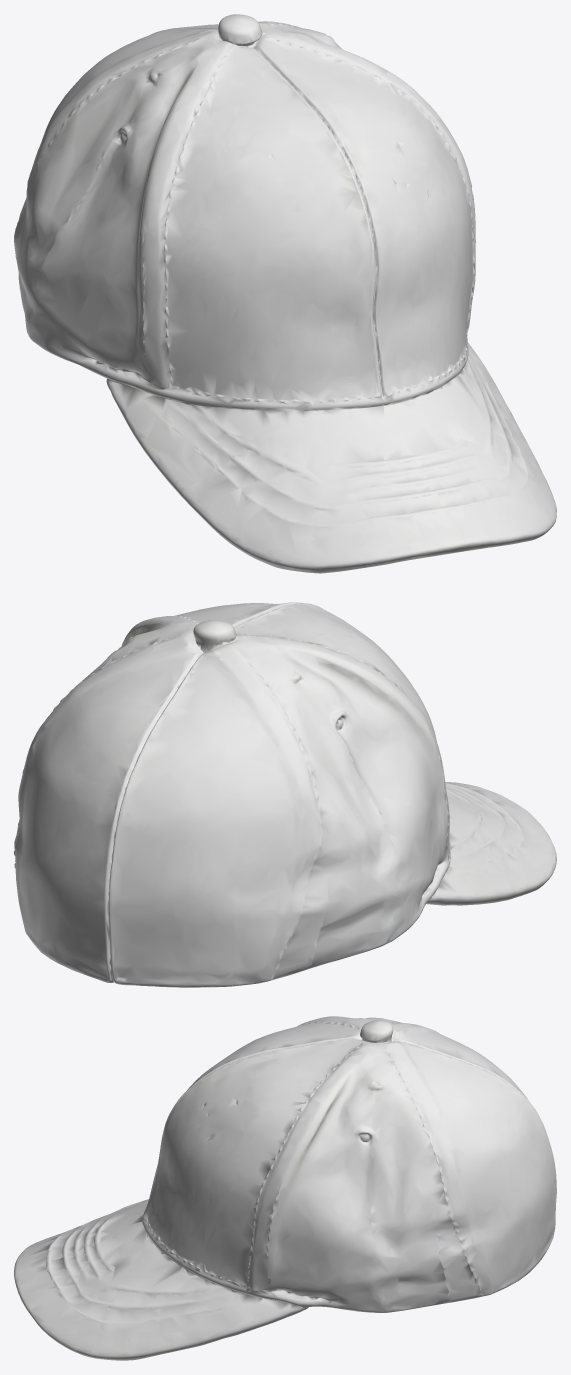
The picture shows the model from 3 angles, top to bottom: view 1: azimuth 30°, elevation 25°; view 2: azimuth 150°, elevation 25°; view 3: azimuth 270°, elevation 25°; orthographic projection. The views are drawn at different scales.
Visible parts, largest first — view 1: tripo_node_1c47f6e0-cdf1-4da2-a295-f1019f4577cf; view 2: tripo_node_1c47f6e0-cdf1-4da2-a295-f1019f4577cf; view 3: tripo_node_1c47f6e0-cdf1-4da2-a295-f1019f4577cf.
Part boxes in pixels (x1,y1,x2,y2): tripo_node_1c47f6e0-cdf1-4da2-a295-f1019f4577cf: [14, 14, 556, 573]; tripo_node_1c47f6e0-cdf1-4da2-a295-f1019f4577cf: [14, 602, 556, 987]; tripo_node_1c47f6e0-cdf1-4da2-a295-f1019f4577cf: [14, 1016, 556, 1360].
Bounding box in the file's own units: 0.7093 × 0.677 × 1.14.
Materials: 1 (1 with a texture image).
